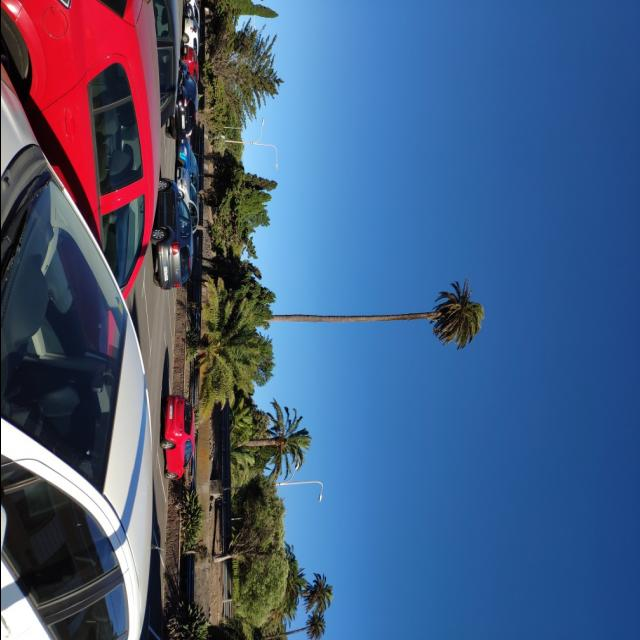Palm-Trees: (260, 278, 485, 343), (190, 280, 258, 410), (240, 407, 310, 478), (290, 572, 334, 612), (278, 613, 324, 640)
